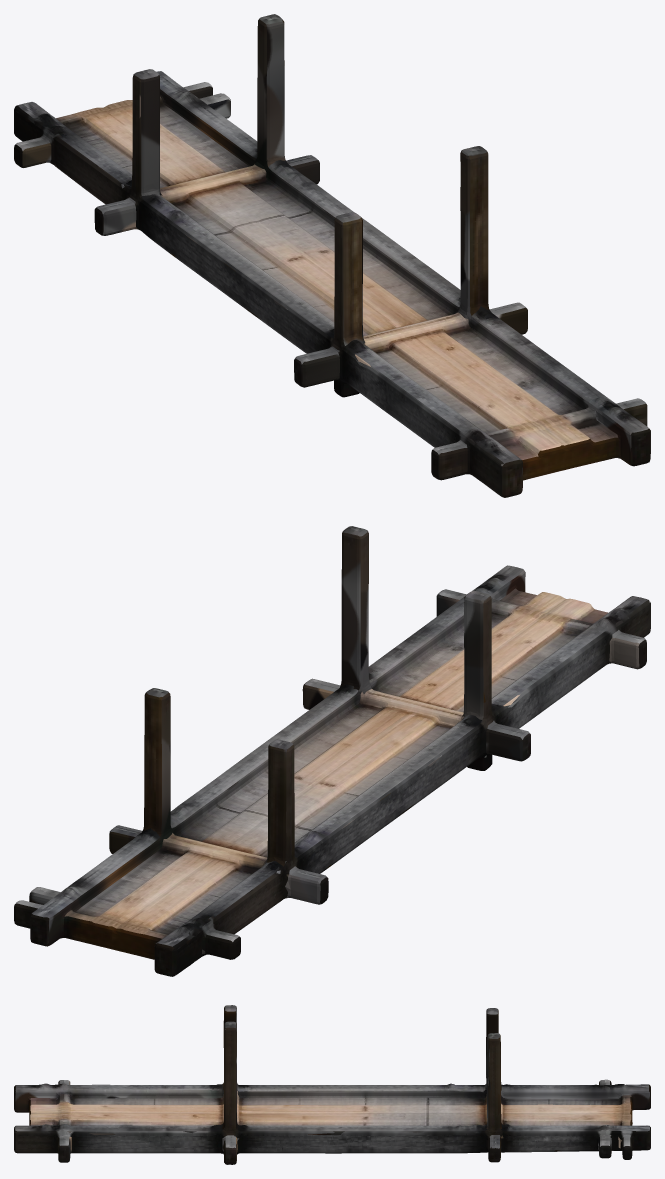
Rendered from traveler_env_coast_shadowlands_tar_bridge_end_00001_.glb.
The picture shows the model from 3 angles, top to bottom: view 1: azimuth 30°, elevation 25°; view 2: azimuth 150°, elevation 25°; view 3: azimuth 270°, elevation 25°; orthographic projection. The views are drawn at different scales.
Parts seen in each view (by area): view 1: temp_mesh.ply; view 2: temp_mesh.ply; view 3: temp_mesh.ply.
Boxes of the visible parts, left/top/right/bottom form: temp_mesh.ply: left=14, top=14, right=650, bottom=497; temp_mesh.ply: left=14, top=526, right=650, bottom=976; temp_mesh.ply: left=14, top=1005, right=650, bottom=1164.
Size of the model in its own units: 0.5284 by 0.4732 by 1.97.
Materials: 1 (1 with a texture image).
